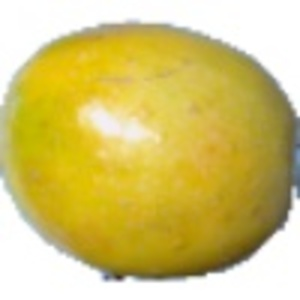maracujá: (1, 17, 300, 284)
